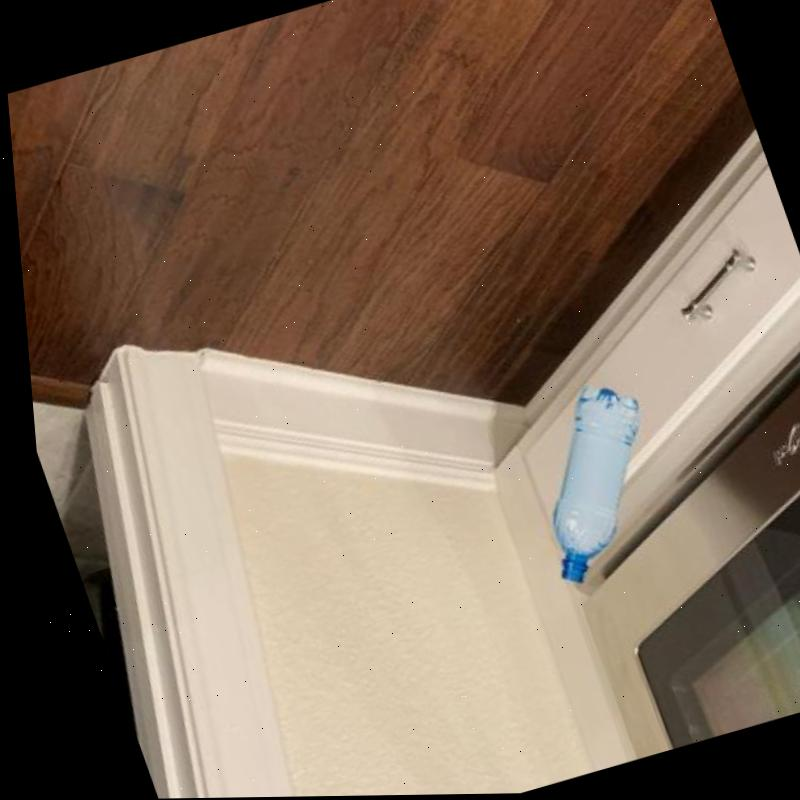botella: (495, 377, 680, 587)
